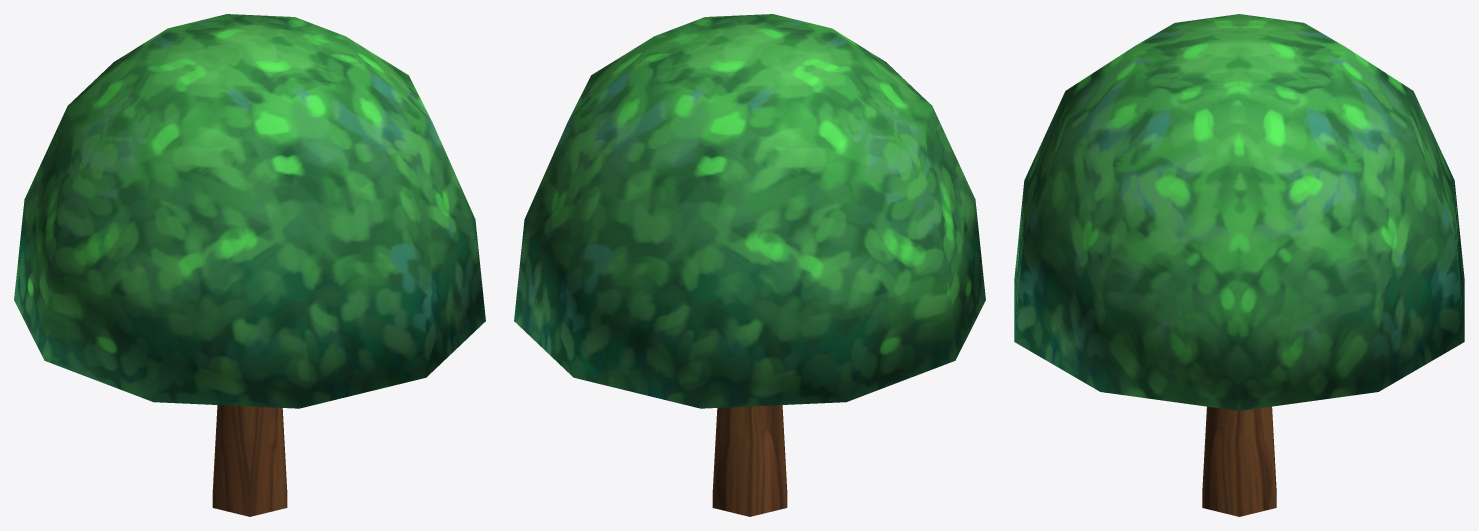
Rendered from Hedge_tree4.fbx.
3 renders of one model, left to right at view 1: azimuth 30°, elevation 25°; view 2: azimuth 150°, elevation 25°; view 3: azimuth 270°, elevation 25°, orthographic.
Visible parts, largest first — view 1: Hedge_tree4; view 2: Hedge_tree4; view 3: Hedge_tree4.
Part boxes in pixels (box(x1,y1,x2,y2)): Hedge_tree4: box(14, 14, 485, 516); Hedge_tree4: box(514, 14, 985, 516); Hedge_tree4: box(1014, 14, 1464, 516).
Size of the model in its own units: 131 by 139 by 125.
